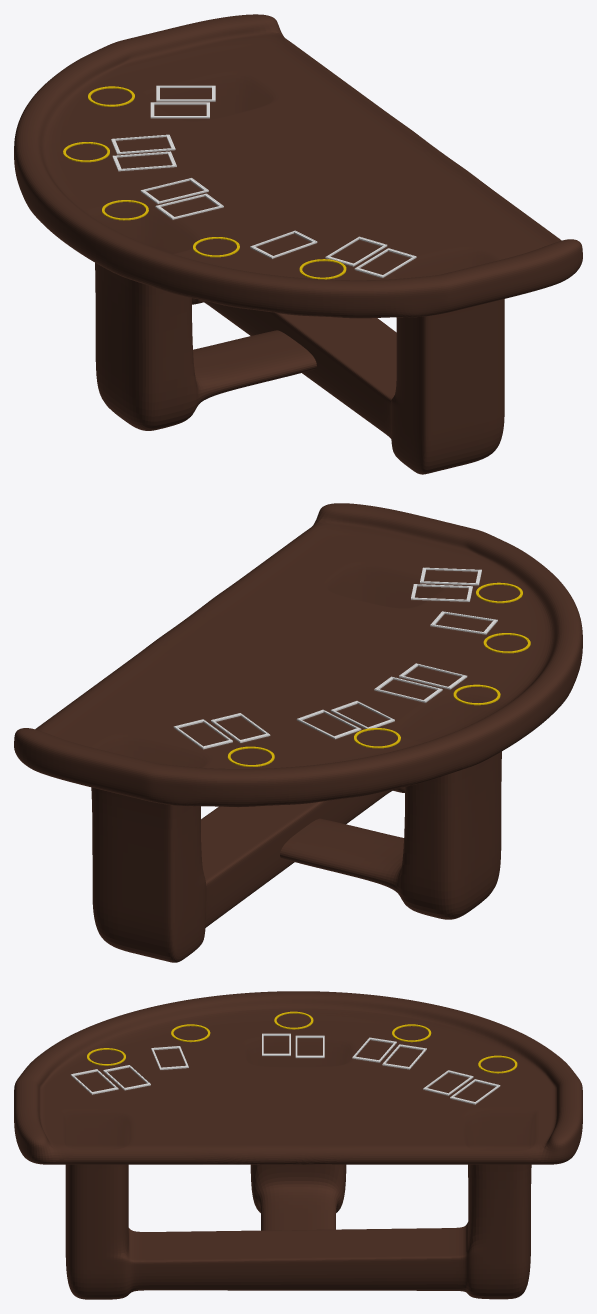
File: Green_BJ_Table.fbx
The picture shows the model from 3 angles, top to bottom: view 1: azimuth 30°, elevation 25°; view 2: azimuth 150°, elevation 25°; view 3: azimuth 270°, elevation 25°; orthographic projection. The views are drawn at different scales.
Parts seen in each view (by area): view 1: Cylinder.012; view 2: Cylinder.012; view 3: Cylinder.012.
Part boxes in pixels (left/top/right/bottom): Cylinder.012: left=14, top=14, right=582, bottom=474; Cylinder.012: left=14, top=503, right=582, bottom=962; Cylinder.012: left=14, top=991, right=582, bottom=1299.
Size of the model in its own units: 18032 by 10513 by 28382.
